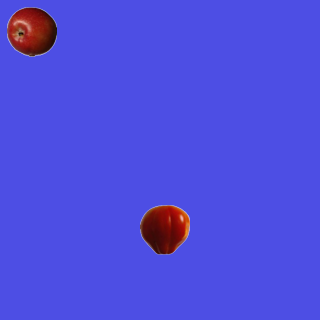Apple Braeburn: (6, 6, 56, 56)
Tomato 1: (139, 204, 189, 254)
